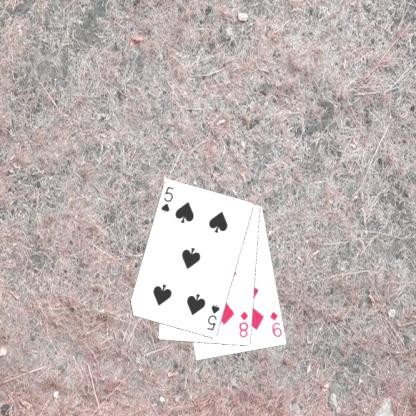5S: (158, 184, 176, 214), (204, 302, 221, 332)
8D: (236, 308, 249, 339)
9D: (267, 308, 283, 338)
